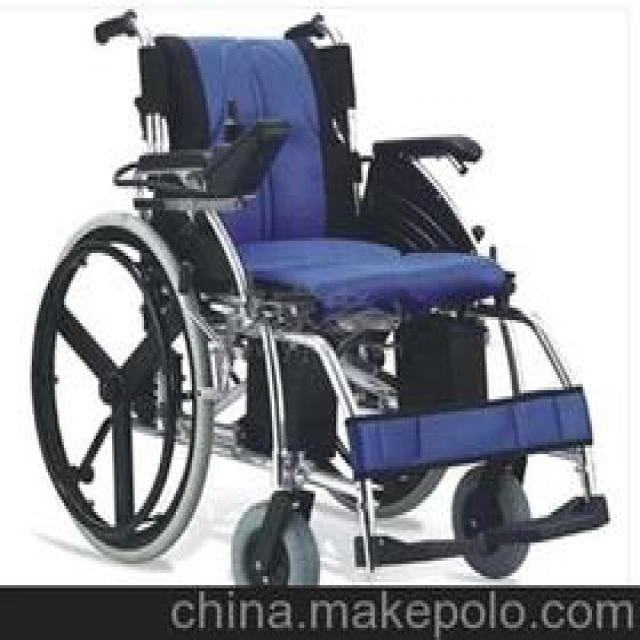wheelchair: (11, 3, 638, 585)
